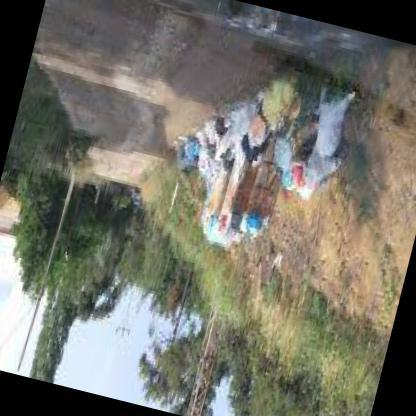Garbage: (248, 57, 368, 172), (286, 76, 361, 214), (176, 96, 236, 181), (196, 200, 268, 270), (210, 81, 260, 168), (230, 102, 278, 164), (276, 119, 304, 173), (233, 208, 272, 245), (206, 213, 240, 255), (192, 126, 220, 162), (214, 208, 238, 244)
